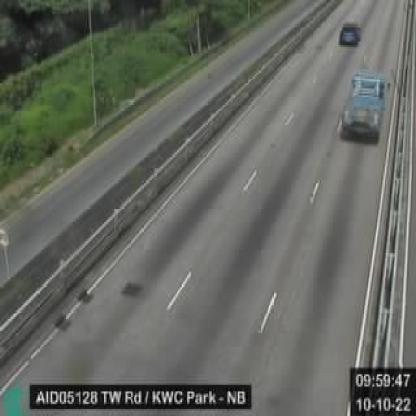Car: (340, 23, 360, 45)
Truck: (346, 70, 390, 139)
